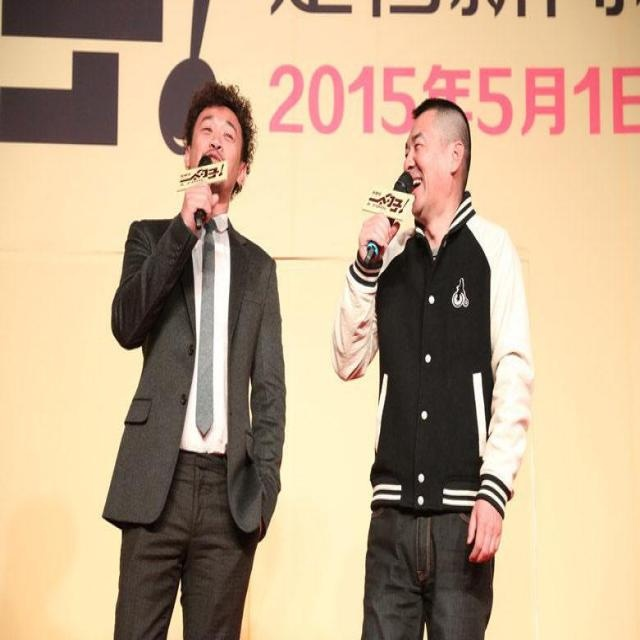obstacle: (327, 53, 540, 640), (96, 54, 292, 640)
